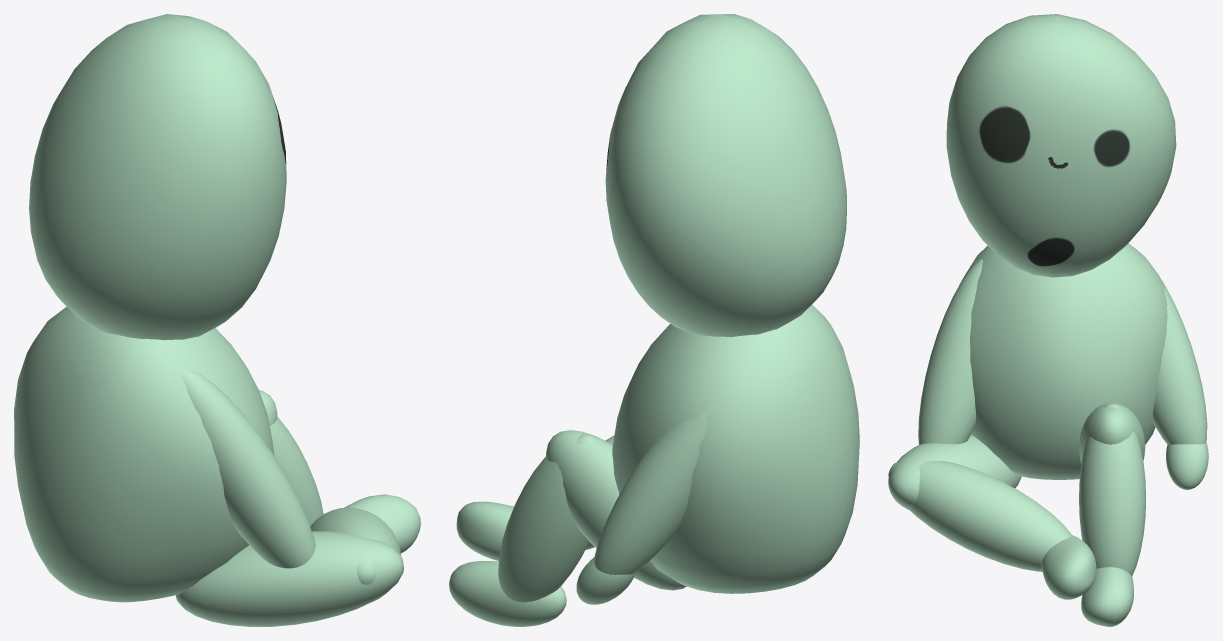
Rendered from new_kodama_04.glb.
The picture shows the model from 3 angles, left to right: view 1: azimuth 30°, elevation 25°; view 2: azimuth 150°, elevation 25°; view 3: azimuth 270°, elevation 25°; orthographic projection. The views are drawn at different scales.
Parts seen in each view (by area): view 1: Sphere.028, Sphere.027, Sphere.024, Sphere.022, Sphere.026, Sphere.023, Sphere.053; view 2: Sphere.028, Sphere.027, Sphere.021, Sphere.023, Sphere.025, Sphere.054, Sphere.053, Sphere.064; view 3: Sphere.028, Sphere.027, Sphere.026, Sphere.023, Sphere.022, Sphere.021, Sphere.024, Sphere.053, Sphere.054, Sphere.025, Sphere.064.
Boxes of the visible parts, <box> form: Sphere.028: <box>29,14,286,340</box>; Sphere.027: <box>14,306,274,602</box>; Sphere.024: <box>175,531,403,626</box>; Sphere.022: <box>181,369,315,568</box>; Sphere.026: <box>310,507,400,602</box>; Sphere.023: <box>270,417,323,526</box>; Sphere.053: <box>344,494,420,553</box>; Sphere.028: <box>605,14,846,336</box>; Sphere.027: <box>612,304,859,593</box>; Sphere.021: <box>594,391,728,574</box>; Sphere.023: <box>498,434,596,602</box>; Sphere.025: <box>546,430,686,590</box>; Sphere.054: <box>449,561,566,626</box>; Sphere.053: <box>456,501,513,560</box>; Sphere.064: <box>576,557,635,604</box>; Sphere.028: <box>946,14,1176,277</box>; Sphere.027: <box>959,243,1167,479</box>; Sphere.026: <box>888,460,1072,571</box>; Sphere.023: <box>1079,403,1145,576</box>; Sphere.022: <box>918,259,983,444</box>; Sphere.021: <box>1151,265,1207,444</box>; Sphere.024: <box>888,434,1021,510</box>; Sphere.053: <box>1041,535,1096,599</box>; Sphere.054: <box>1081,567,1133,626</box>; Sphere.025: <box>1079,402,1145,463</box>; Sphere.064: <box>1166,442,1208,489</box>.
Bounding box in the file's own units: 4.02 × 6.27 × 3.47.
Materials: 2 (2 with a texture image).
